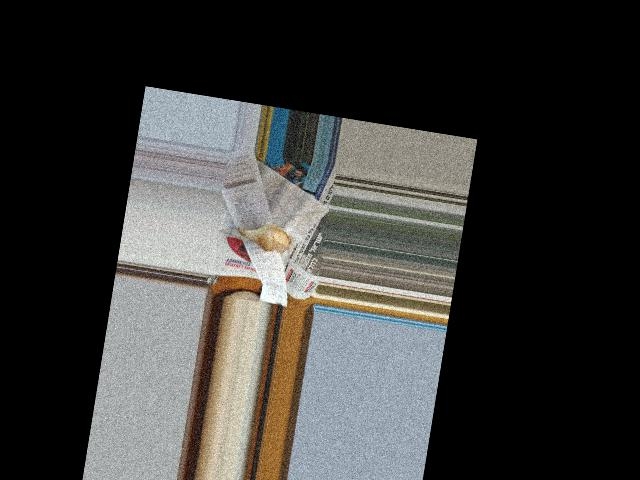onion: (239, 219, 294, 255)
